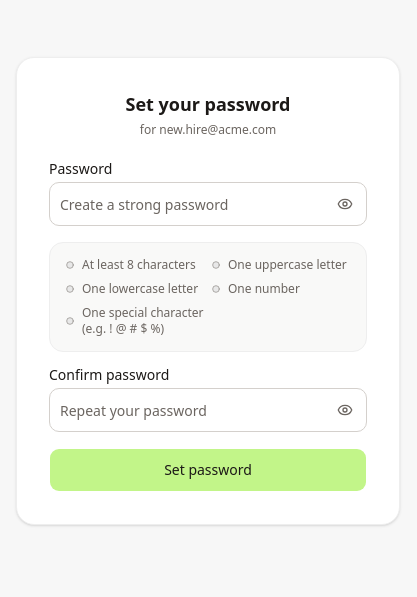
Test case: SetPasswordPage password validation › rejects a confirmation that does not match
Type "Abcdef1!" into the password field labelled "Password" at (208,204), box [49,182,367,226]
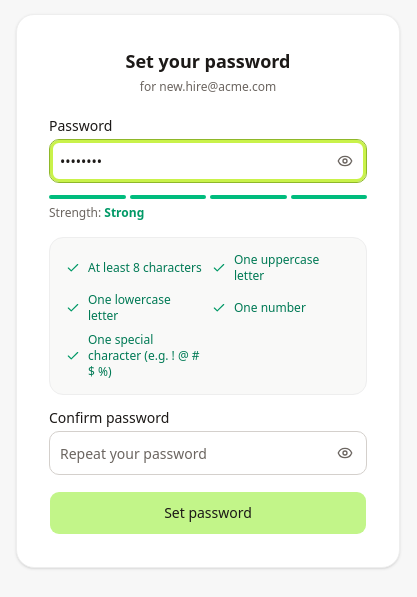
Type "Abcdef1?" into the password field labelled "Confirm password" at (208,453), box [49,431,367,475]
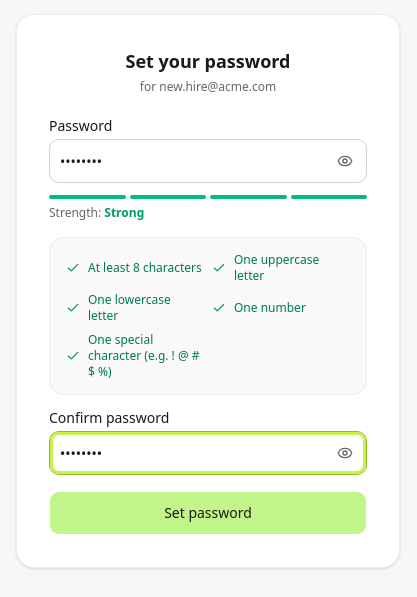
Click the button "Set password" at (208,513), box [49,491,367,535]
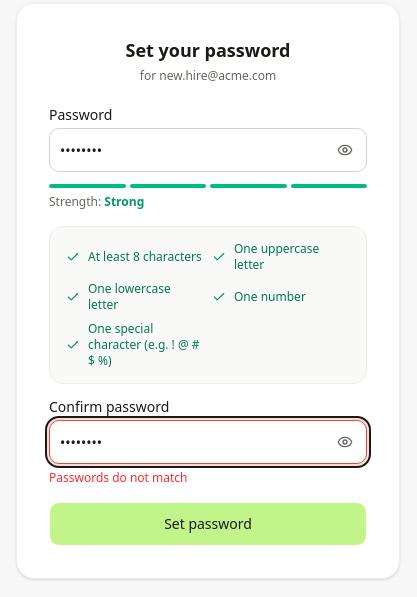
Result: the text "Passwords do not match" is shown at [49,469,188,486]
